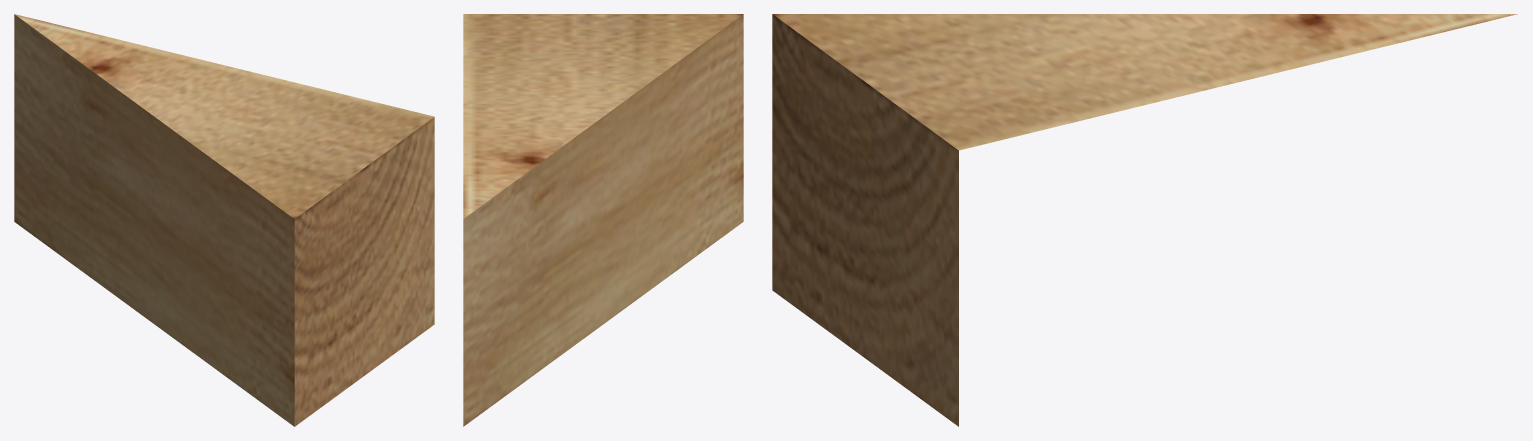
3 renders of one model, left to right at view 1: azimuth 30°, elevation 25°; view 2: azimuth 150°, elevation 25°; view 3: azimuth 270°, elevation 25°, orthographic. The views are drawn at different scales.
Parts seen in each view (by area): view 1: Joint_0_Object_0; view 2: Joint_0_Object_0; view 3: Joint_0_Object_0.
Boxes of the visible parts, x1,y1,x2,y2 form: Joint_0_Object_0: (14,14,434,426); Joint_0_Object_0: (463,14,743,426); Joint_0_Object_0: (772,14,1517,426).
Bounding box in the file's own units: 456 × 430 × 1052.
1 material, 1 textured.
